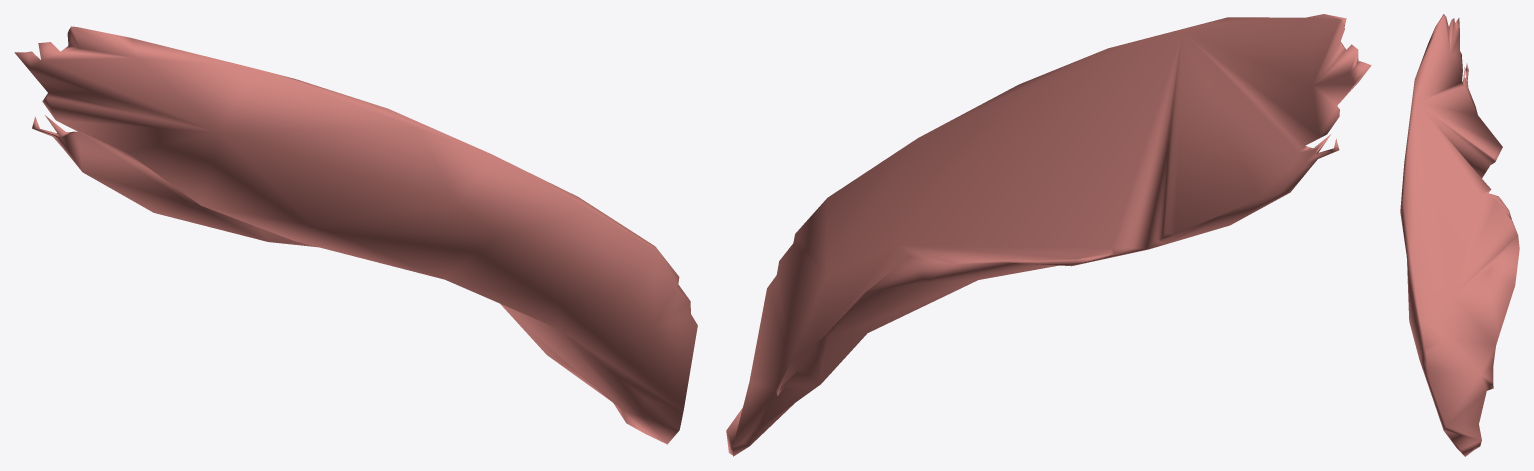
3 views of the same model, side by side, from view 1: azimuth 30°, elevation 25°; view 2: azimuth 150°, elevation 25°; view 3: azimuth 270°, elevation 25° (orthographic). The views are drawn at different scales.
Parts seen in each view (by area): view 1: ZA_a0e2f686f649e545; view 2: ZA_a0e2f686f649e545; view 3: ZA_a0e2f686f649e545.
Part boxes in pixels (x1,y1,x2,y2): ZA_a0e2f686f649e545: [14, 26, 697, 444]; ZA_a0e2f686f649e545: [726, 14, 1371, 456]; ZA_a0e2f686f649e545: [1400, 14, 1519, 456].
Bounding box in the file's own units: 0.0227 × 0.019 × 0.00703.
